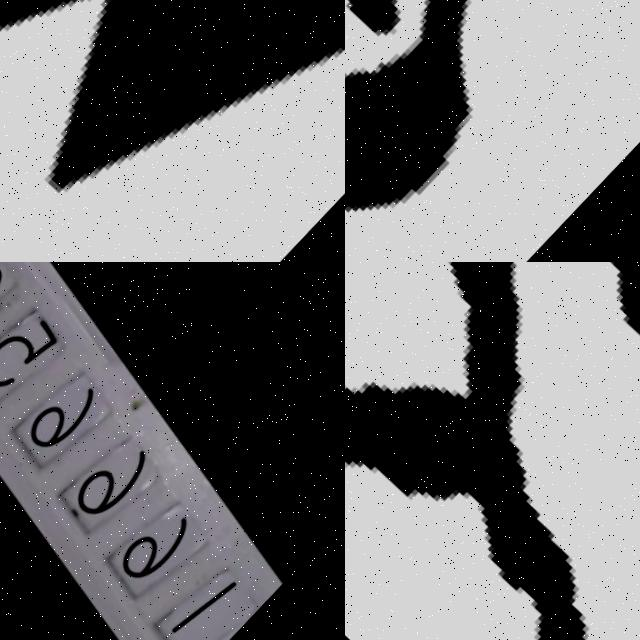0: (0, 262, 34, 355)
1: (159, 561, 275, 640)
2: (345, 262, 640, 640)
5: (0, 298, 84, 419)
6: (345, 0, 640, 262), (62, 427, 184, 549), (107, 493, 226, 613), (12, 363, 129, 481)
W: (0, 0, 345, 262)
